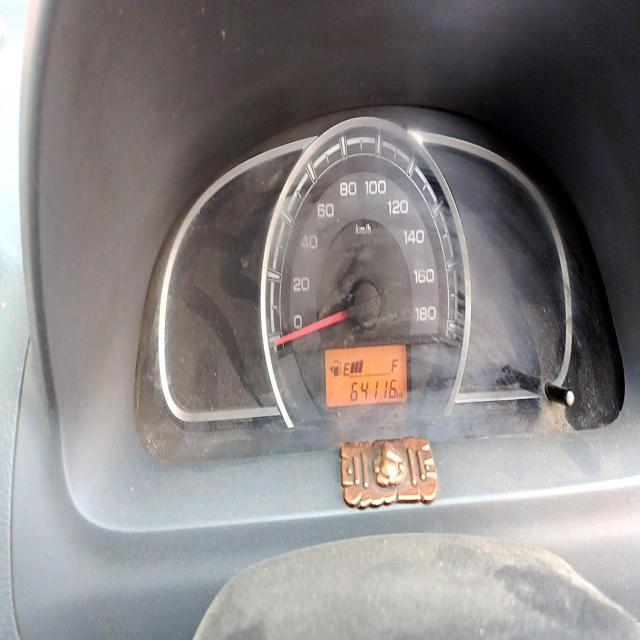odometer: (349, 374, 397, 404)
